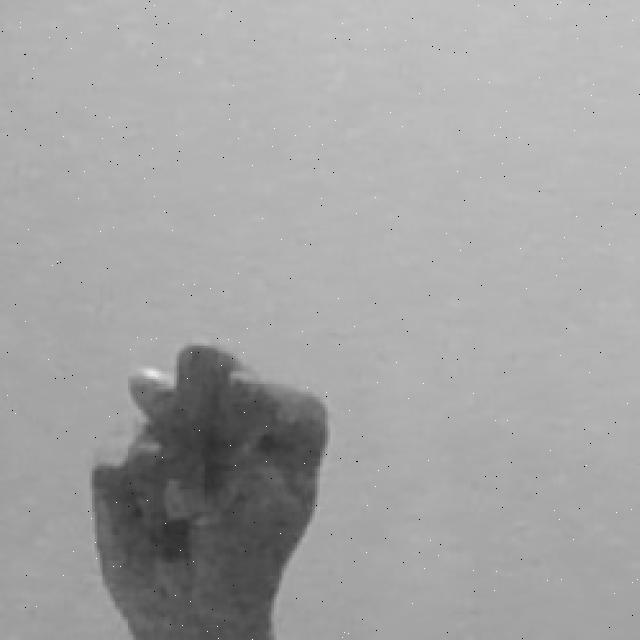N: (80, 338, 340, 640)
